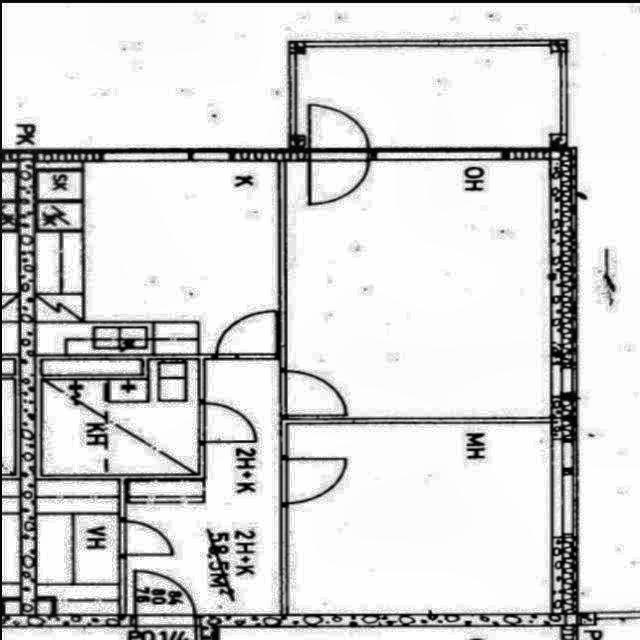room: (286, 160, 550, 418), (288, 424, 550, 614), (36, 162, 278, 355), (297, 47, 559, 148), (42, 360, 199, 474), (37, 480, 118, 614)
